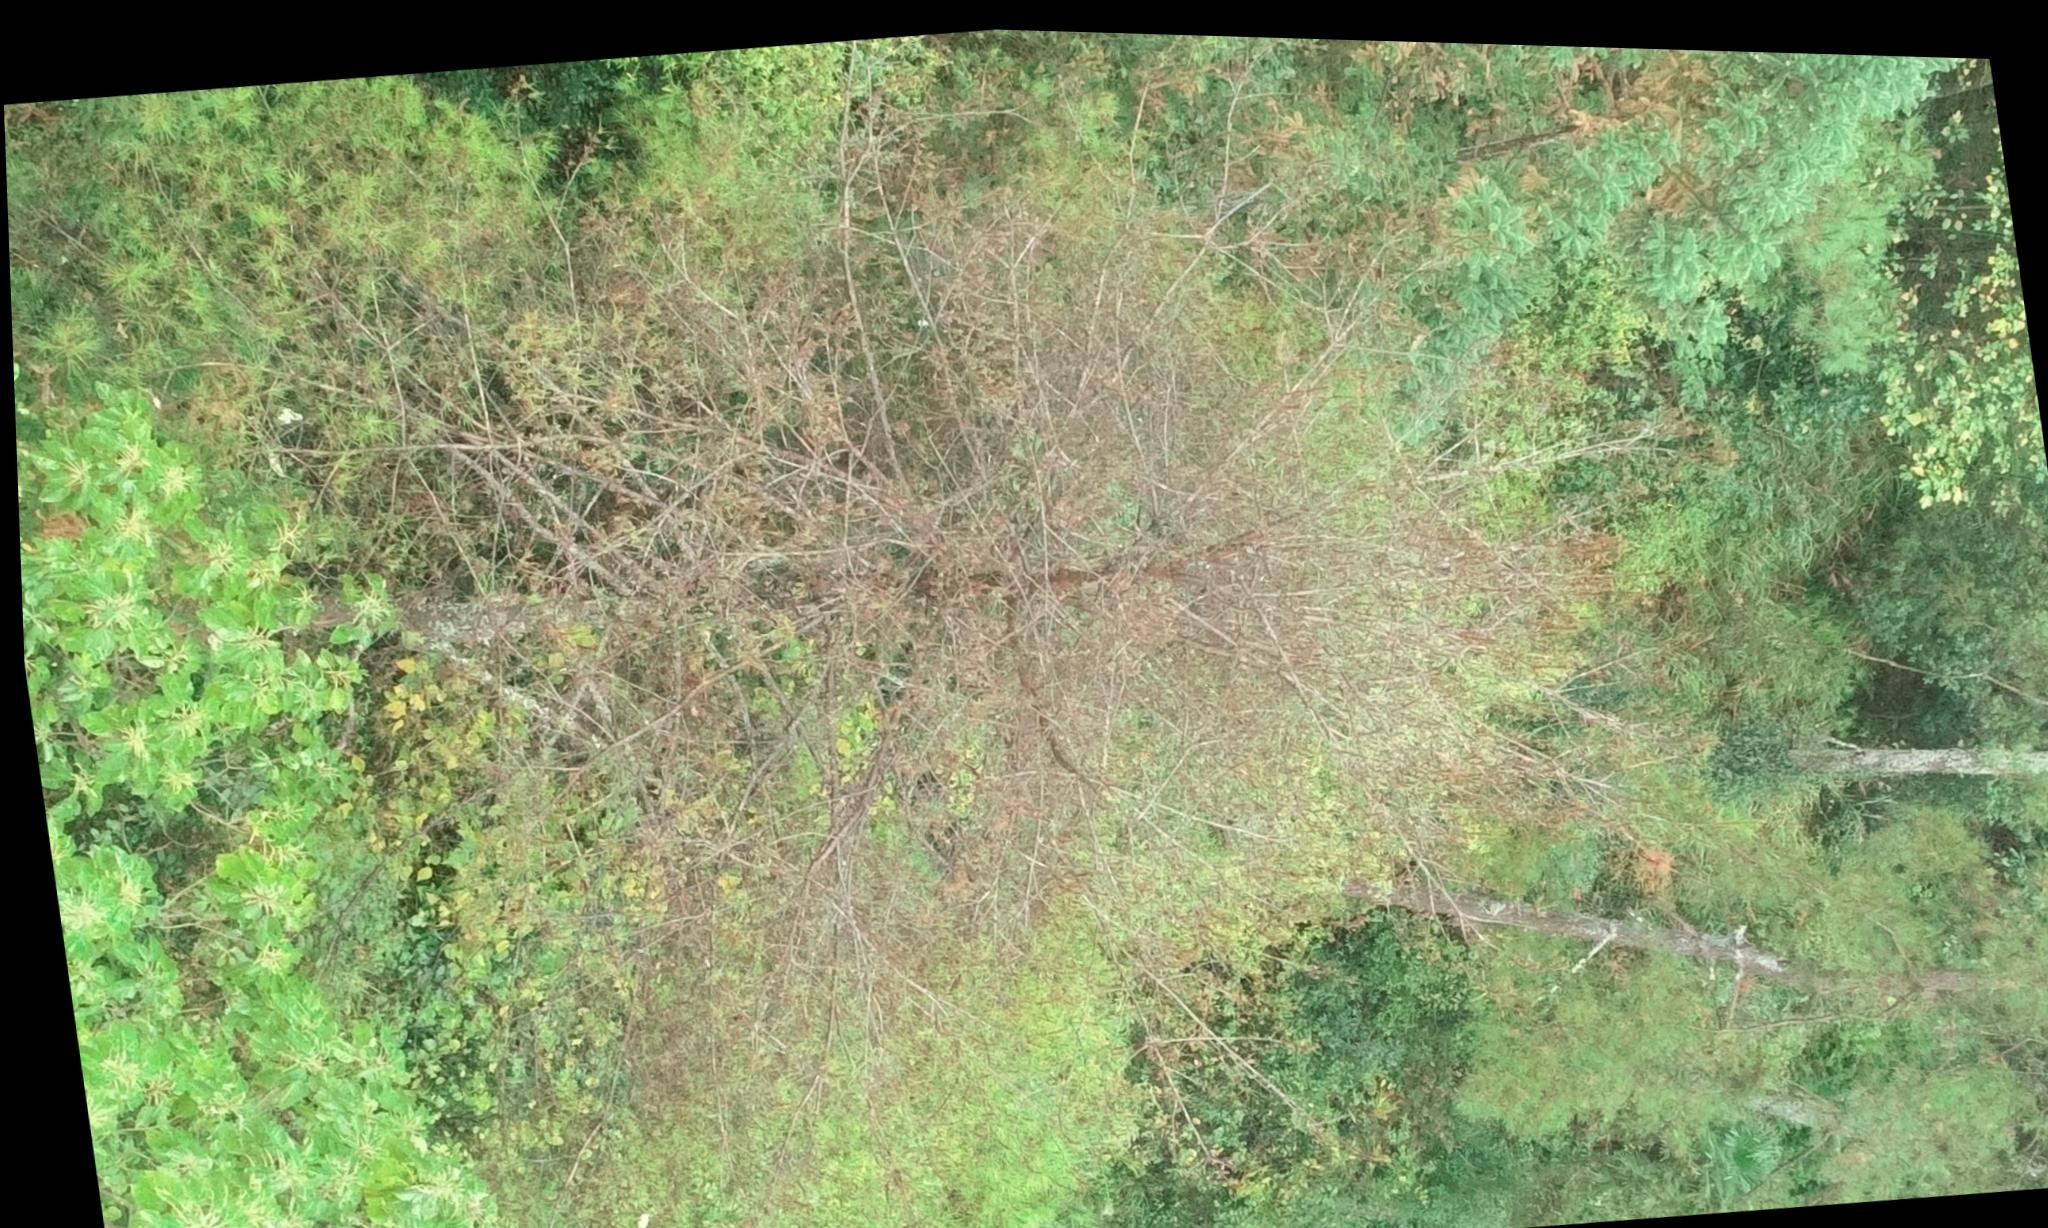heavy: (247, 6, 1693, 1152)
